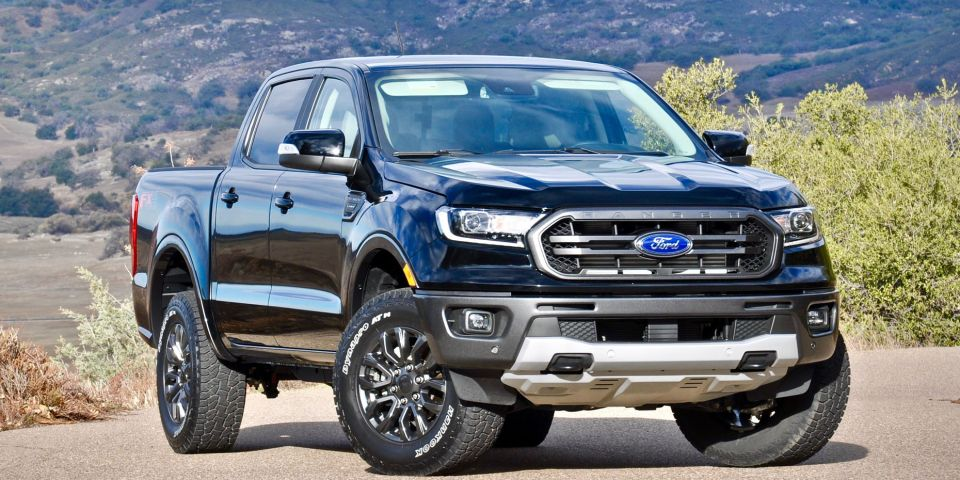car: (126, 54, 852, 467)
